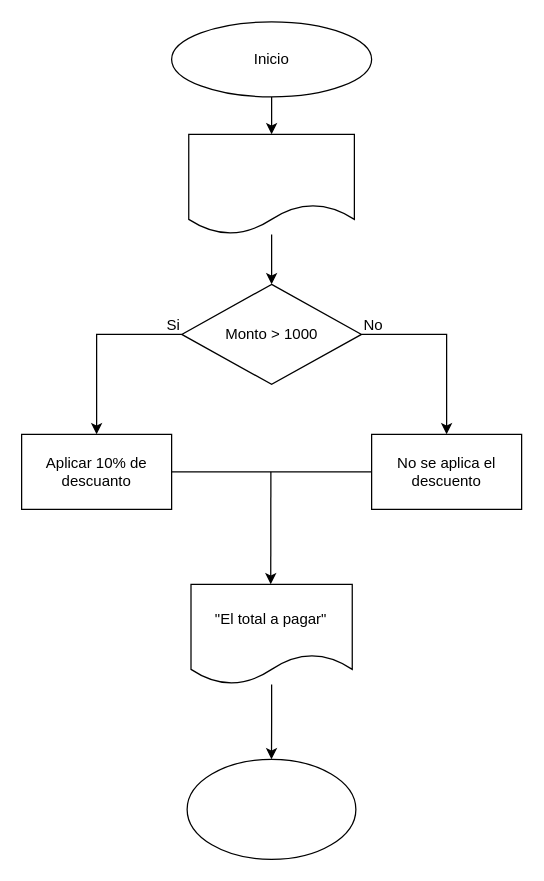
This 544x881 diagram has some shape labels left out. Each missing label, with the centre of its shape:
"Monto de compra": point (271, 183)
Fin: point (271, 808)
